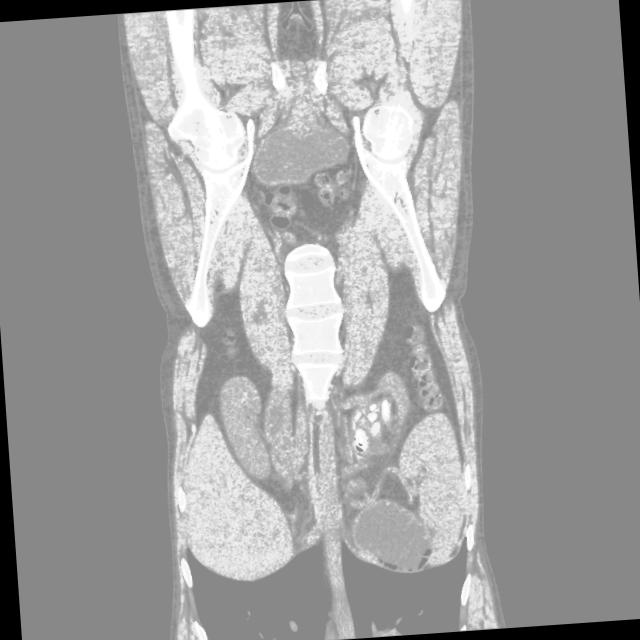STONE: (154, 212, 517, 470)
